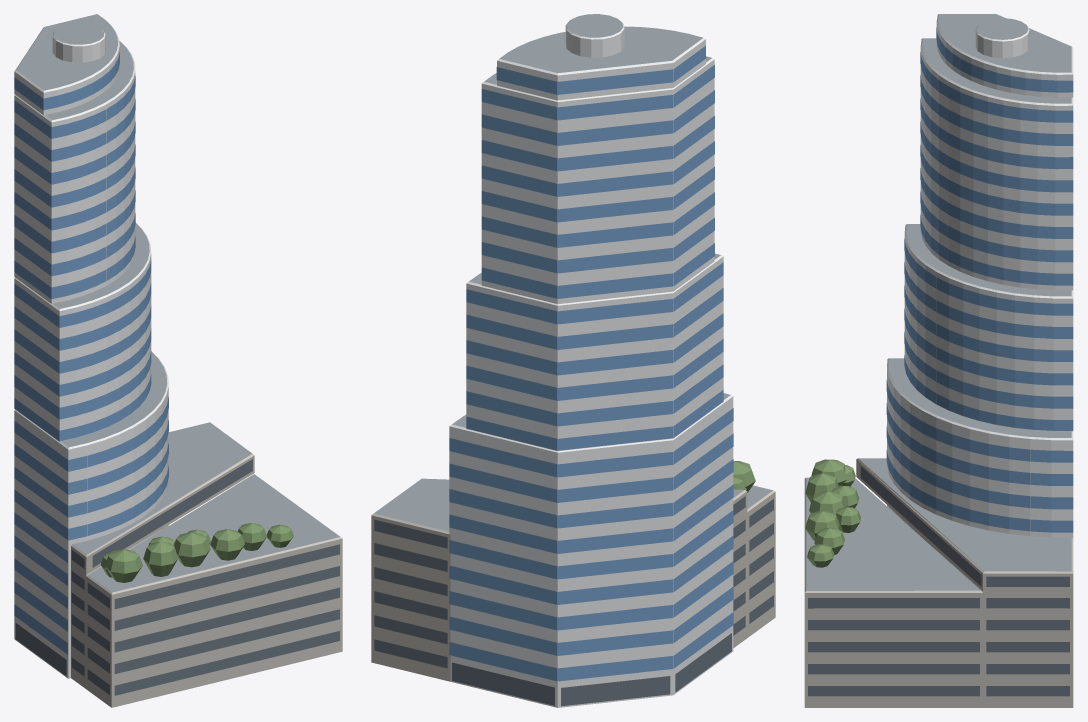
Rendered from mia-miami-tower.glb.
3 views of the same model, side by side, from view 1: azimuth 30°, elevation 25°; view 2: azimuth 150°, elevation 25°; view 3: azimuth 270°, elevation 25° (orthographic). The views are drawn at different scales.
Parts seen in each view (by area): view 1: Miami Tower; view 2: Miami Tower; view 3: Miami Tower.
Part boxes in pixels (bbox=[...]): Miami Tower: bbox=[14, 14, 342, 707]; Miami Tower: bbox=[371, 14, 775, 707]; Miami Tower: bbox=[804, 14, 1073, 707].
Size of the model in its own units: 77.02 by 184 by 75.42.
